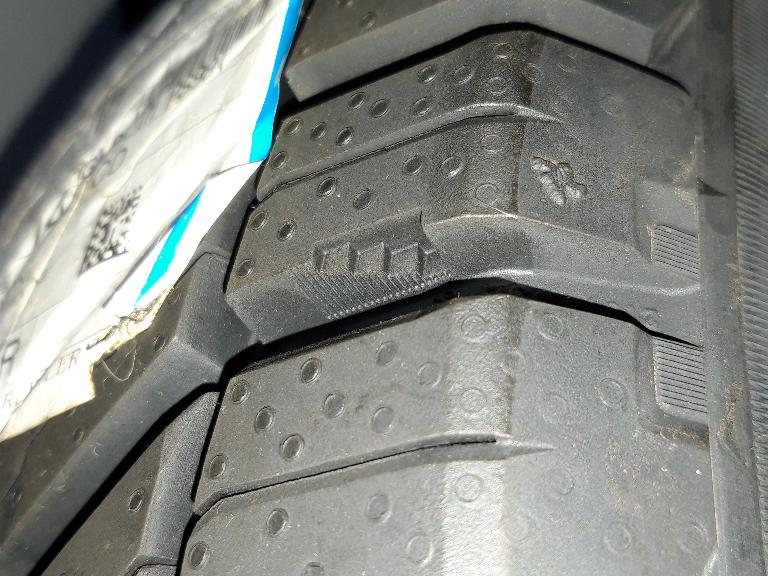temoin:100: (282, 202, 460, 326)
